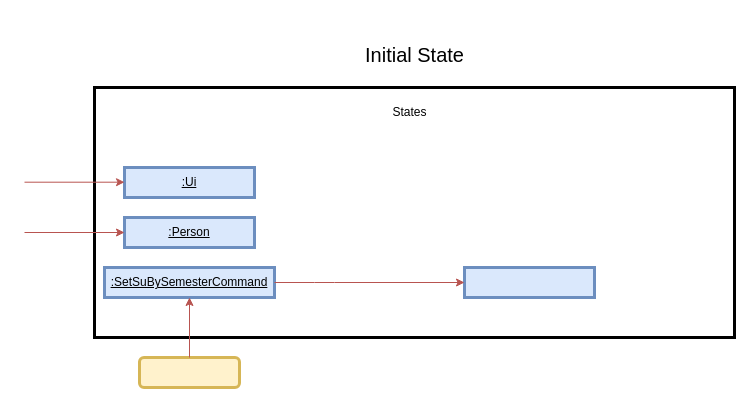
The diagram is 753 pixels wide and 406 high, and some of its shapes have lost their labels. Here are the shapes that lost their labels. From the top down, the centre of each, then its label:
At point (529, 282): ":SetSuUtils".
At point (189, 372): "Current State".
